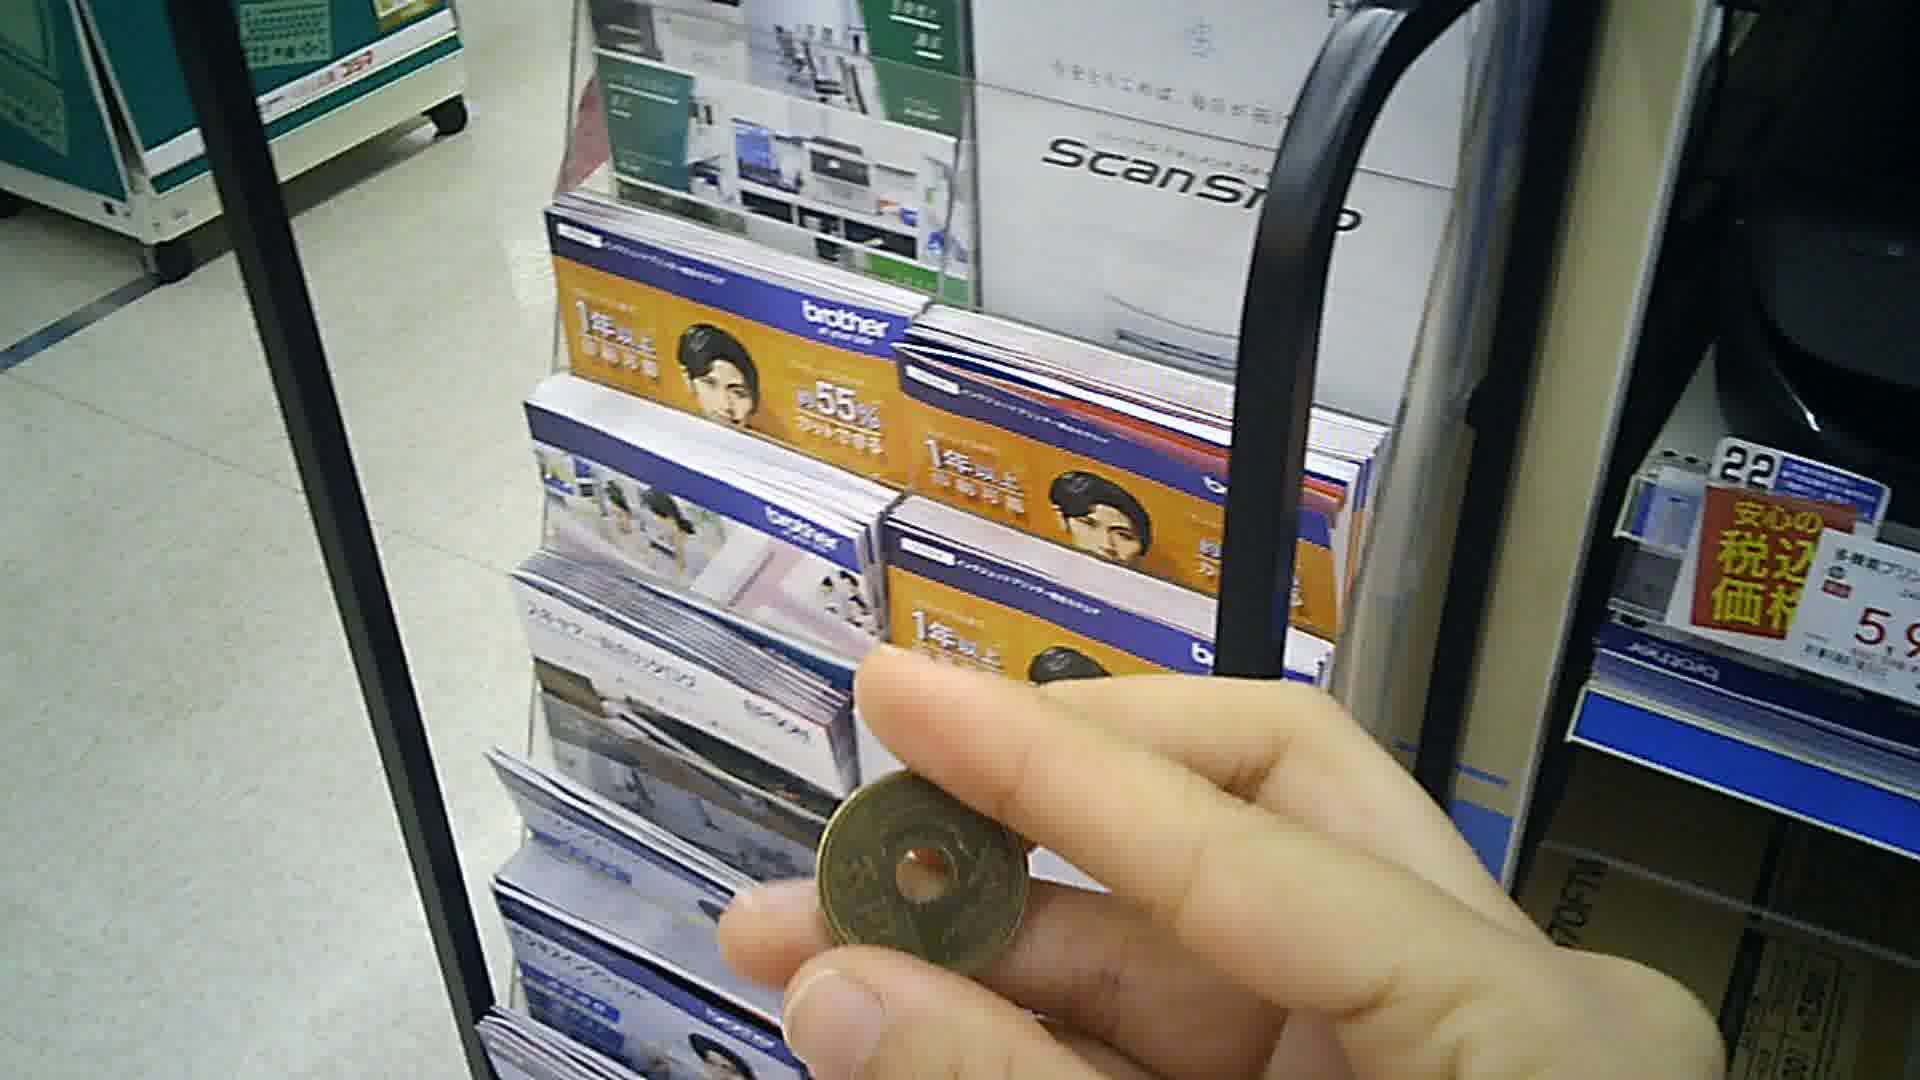5 Yen: (806, 760, 1040, 978)
